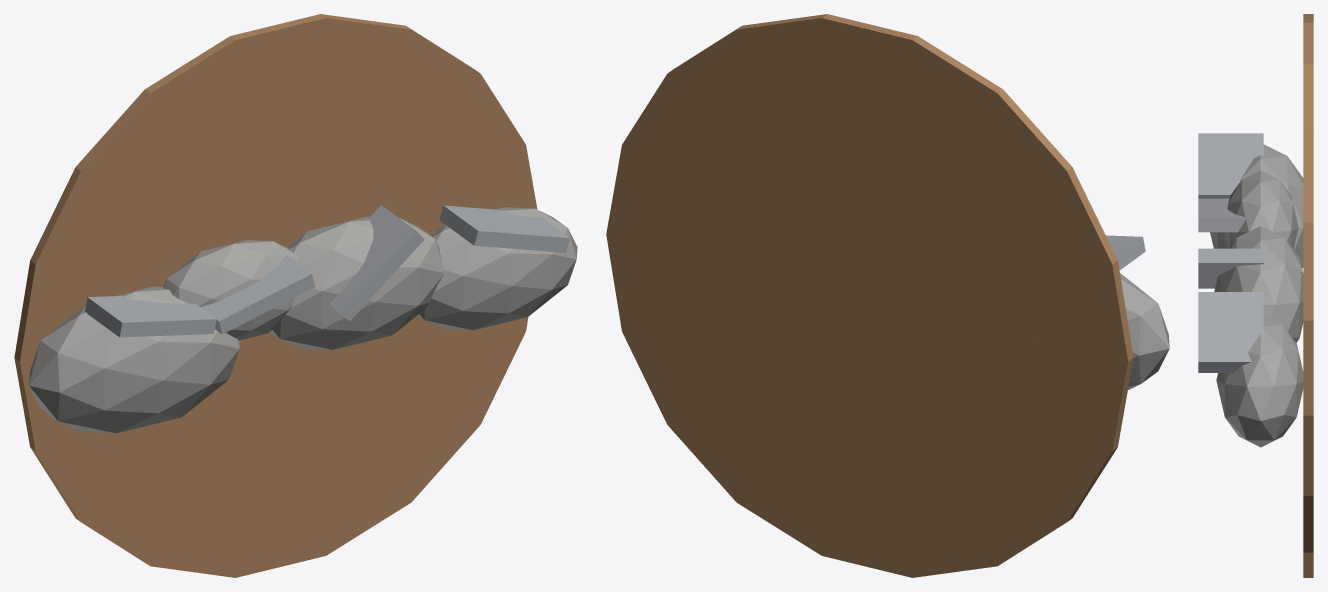
Rendered from 02_local_prop_cluster.glb.
The picture shows the model from 3 angles, left to right: view 1: azimuth 30°, elevation 25°; view 2: azimuth 150°, elevation 25°; view 3: azimuth 270°, elevation 25°; orthographic projection. The views are drawn at different scales.
Visible parts, largest first — view 1: scatter_base, scrap_rock_0, scrap_rock_2, scrap_rock_3, scrap_rock_1, scrap_plate_0, scrap_plate_3, scrap_plate_2, scrap_plate_1; view 2: scatter_base, scrap_rock_0, scrap_plate_0; view 3: scrap_rock_3, scatter_base, scrap_rock_2, scrap_plate_3, scrap_rock_1, scrap_plate_0, scrap_rock_0, scrap_plate_2, scrap_plate_1.
Boxes of the visible parts, x1,y1,x2,y2 form: scatter_base: (14, 14, 537, 577); scrap_rock_0: (29, 286, 240, 433); scrap_rock_2: (270, 216, 443, 349); scrap_rock_3: (418, 207, 577, 330); scrap_rock_1: (163, 240, 300, 340); scrap_plate_0: (85, 296, 216, 337); scrap_plate_3: (439, 205, 569, 252); scrap_plate_2: (330, 205, 424, 320); scrap_plate_1: (200, 254, 315, 334); scatter_base: (606, 14, 1133, 577); scrap_rock_0: (1035, 273, 1169, 389); scrap_plate_0: (1106, 235, 1145, 270); scrap_rock_3: (1216, 315, 1303, 447); scatter_base: (1303, 14, 1313, 577); scrap_rock_2: (1214, 226, 1303, 342); scrap_plate_3: (1198, 292, 1263, 372); scrap_rock_1: (1224, 170, 1298, 249); scrap_plate_0: (1198, 133, 1263, 198); scrap_rock_0: (1210, 144, 1303, 268); scrap_plate_2: (1198, 248, 1263, 288); scrap_plate_1: (1198, 198, 1247, 232).
Bounding box in the file's own units: 2 × 1.87 × 0.3878.
